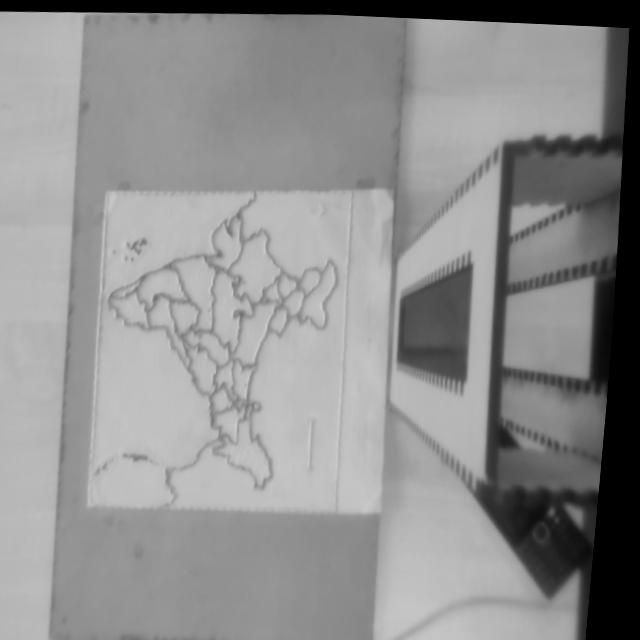map: (88, 178, 352, 518)
